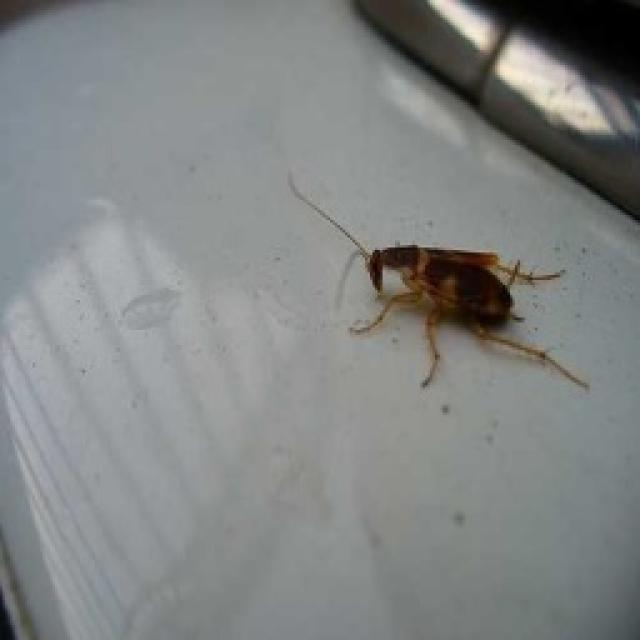cockroach: (283, 168, 593, 398)
